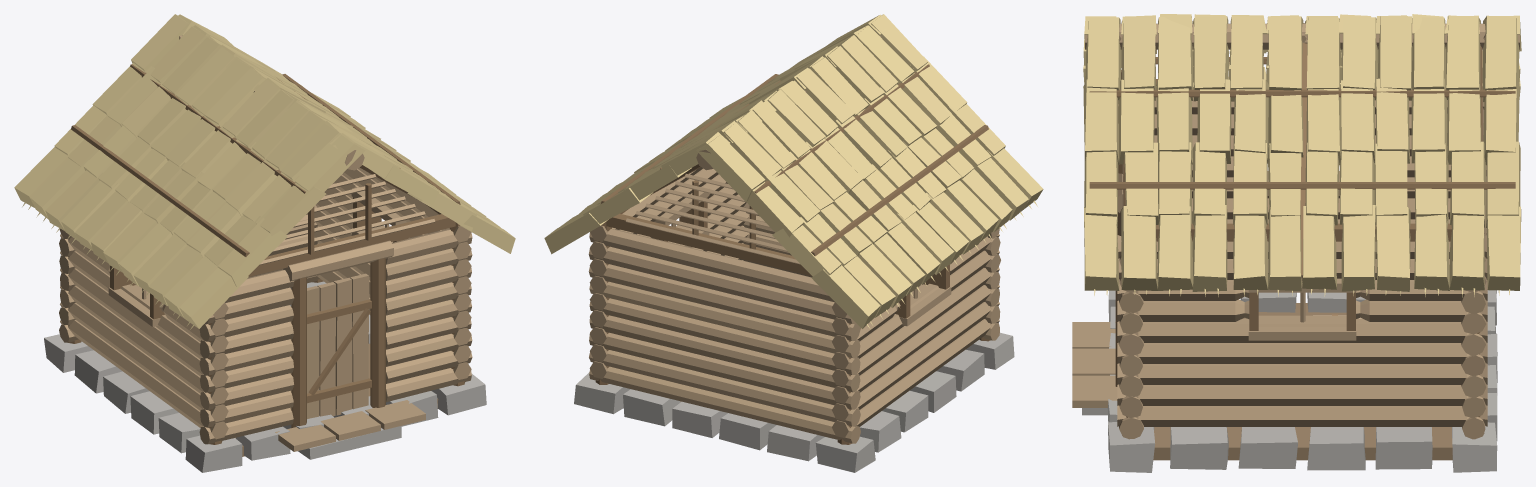
File: building_log_house_complete.glb
3 views of the same model, side by side, from view 1: azimuth 30°, elevation 25°; view 2: azimuth 150°, elevation 25°; view 3: azimuth 270°, elevation 25° (orthographic). The views are drawn at different scales.
Visible parts, largest first — view 1: building_log_house_complete; view 2: building_log_house_complete; view 3: building_log_house_complete.
Boxes of the visible parts, bbox=[...] form: building_log_house_complete: bbox=[14, 14, 515, 472]; building_log_house_complete: bbox=[544, 14, 1043, 472]; building_log_house_complete: bbox=[1072, 14, 1521, 472].
Bounding box in the file's own units: 3.97 × 3.56 × 3.88.
